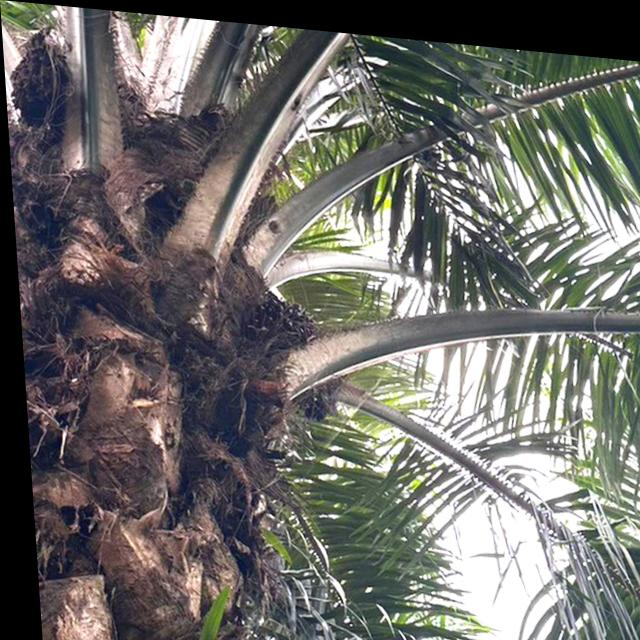almost: (237, 281, 346, 426)
